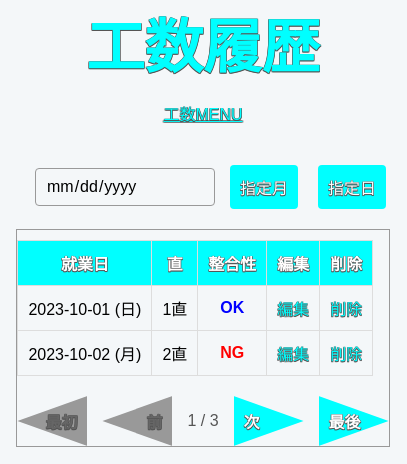
Test case: KosuList Component - 詳細結合テスト › 「次」ボタンをクリックして2ページ目のデータを取得できること
Expected: the text "2023-10-01 (日)" is shown, [18,286,152,330]
Click the button "次": (269, 421) [234,396,304,446]
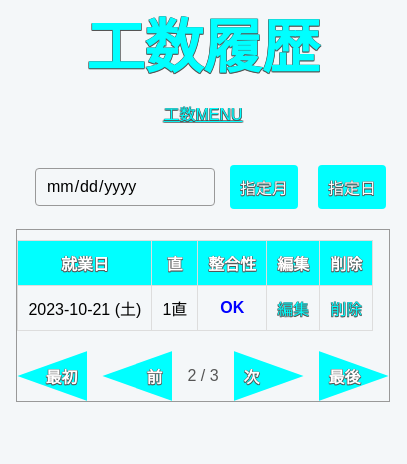
Expected: the text "2023-10-21 (土)" is shown, [18,286,152,330]
